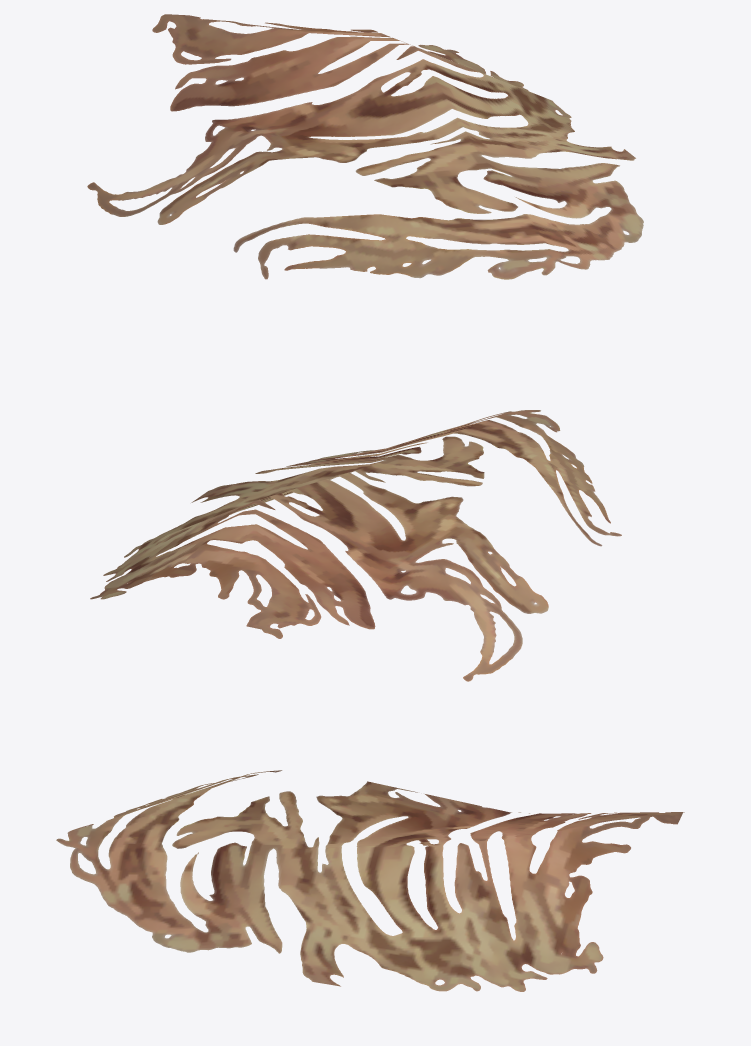
File: lairKvar.fbx
3 views of the same model, one above another, from view 1: azimuth 30°, elevation 25°; view 2: azimuth 150°, elevation 25°; view 3: azimuth 270°, elevation 25° (orthographic). The views are drawn at different scales.
Parts seen in each view (by area): view 1: lairKvar_LOD0; view 2: lairKvar_LOD0; view 3: lairKvar_LOD0.
Part boxes in pixels (left/top/right/bottom): lairKvar_LOD0: left=87, top=14, right=643, bottom=279; lairKvar_LOD0: left=90, top=410, right=621, bottom=681; lairKvar_LOD0: left=56, top=770, right=684, bottom=991.
Size of what is drawn, in the model's own units: 0.587 by 0.1217 by 0.7256.
